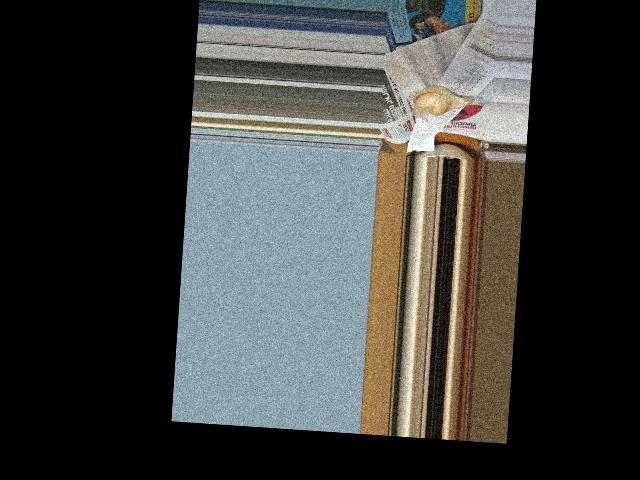onion: (414, 83, 471, 116)
